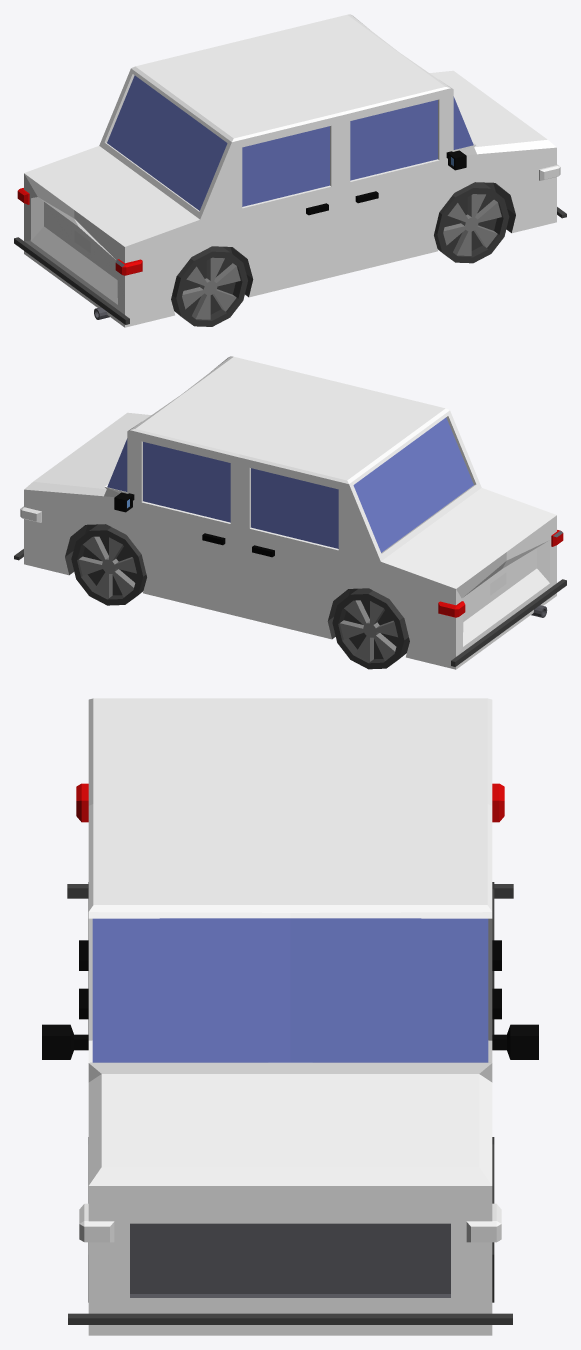
File: Voiture.fbx
The picture shows the model from 3 angles, top to bottom: view 1: azimuth 30°, elevation 25°; view 2: azimuth 150°, elevation 25°; view 3: azimuth 270°, elevation 25°; orthographic projection. The views are drawn at different scales.
Parts seen in each view (by area): view 1: Voiture, Roue.002, Roue.004; view 2: Voiture, Roue, Roue.001; view 3: Voiture.
Boxes of the visible parts, left/top/right/bottom form: Voiture: left=14, top=14, right=566, bottom=327; Roue.002: left=171, top=246, right=247, bottom=326; Roue.004: left=434, top=182, right=509, bottom=263; Voiture: left=14, top=356, right=566, bottom=669; Roue: left=332, top=588, right=409, bottom=669; Roue.001: left=71, top=524, right=146, bottom=605; Voiture: left=42, top=698, right=538, bottom=1335.
Size of the model in its own units: 432 by 169 by 209.
